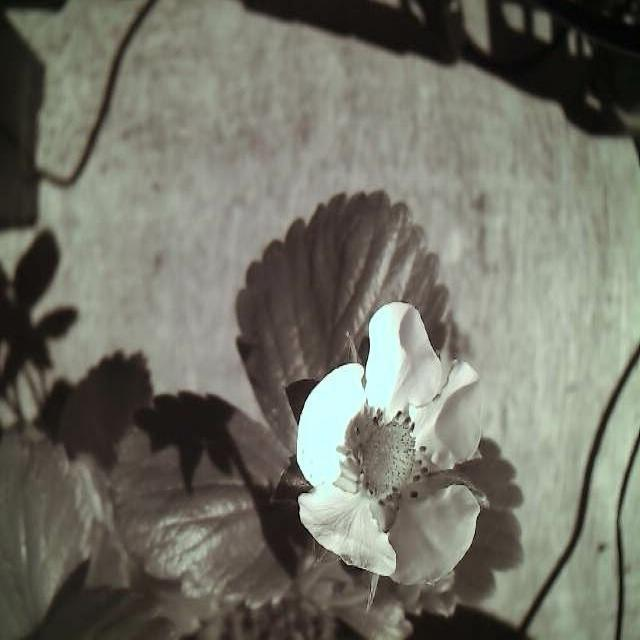flower: (288, 298, 488, 589)
